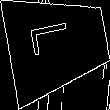L_E: (33, 25, 82, 64)
